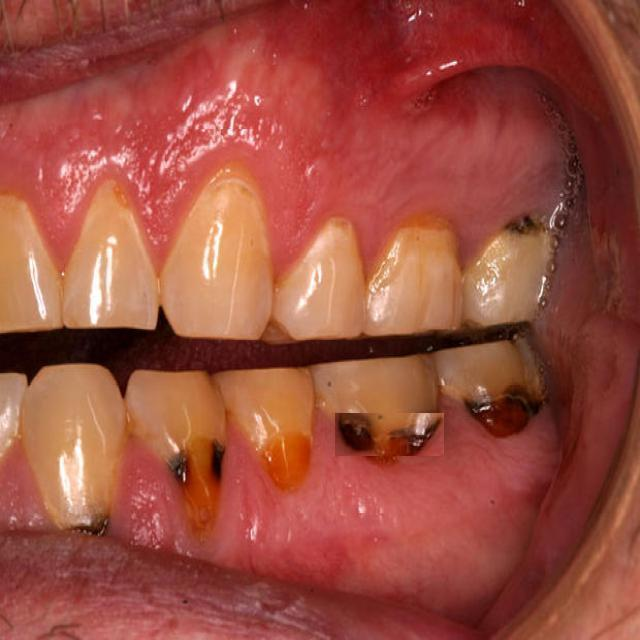caries: (168, 435, 225, 529), (458, 379, 550, 434), (335, 413, 444, 456), (506, 212, 557, 240)
